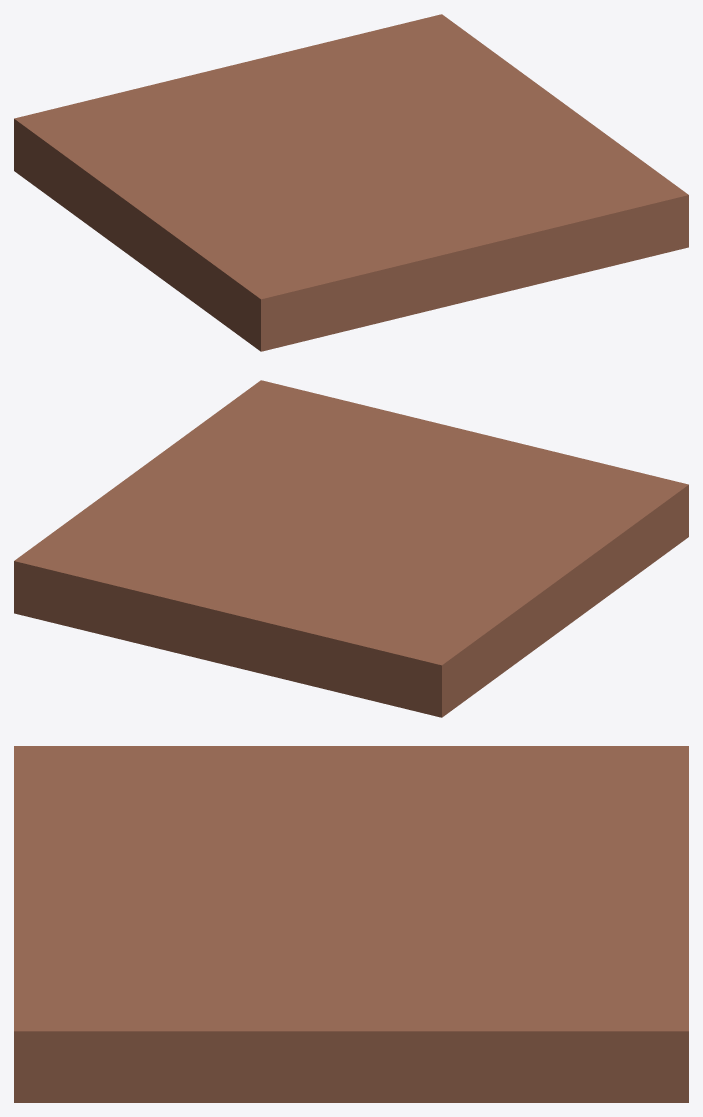
File: Ceiling02.fbx
3 renders of one model, top to bottom at view 1: azimuth 30°, elevation 25°; view 2: azimuth 150°, elevation 25°; view 3: azimuth 270°, elevation 25°, orthographic. The views are drawn at different scales.
Visible parts, largest first — view 1: Ceiling02; view 2: Ceiling02; view 3: Ceiling02.
Boxes of the visible parts, x1=… form: Ceiling02: x1=14, y1=14, x2=688, y2=351; Ceiling02: x1=14, y1=380, x2=688, y2=717; Ceiling02: x1=14, y1=746, x2=688, y2=1102.
Bounding box in the file's own units: 4 × 0.4683 × 4.
